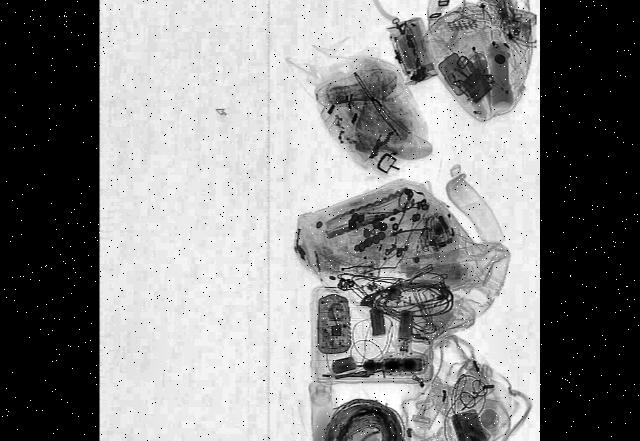Pliers: (338, 427, 383, 441)
